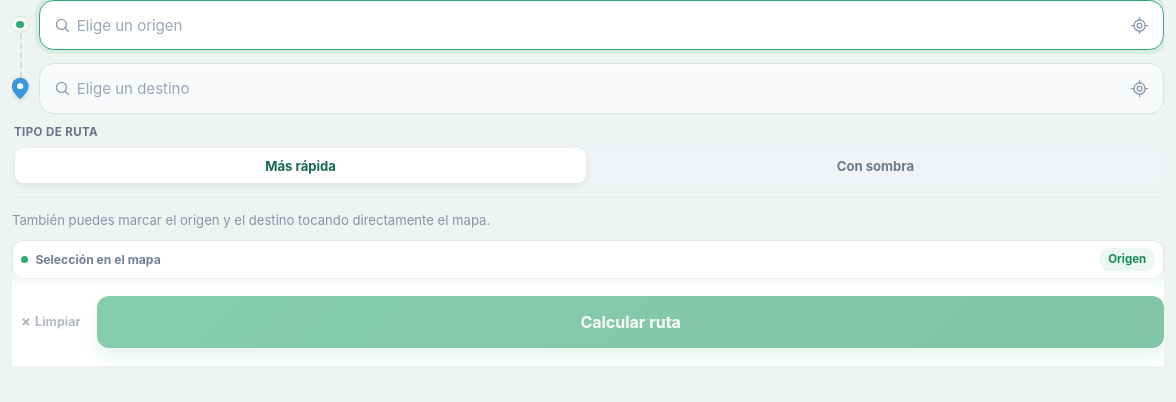
Test case: RouteSearchPanel › supports keyboard selection, Escape, and blur dismissal
Type "Pilar" into the dropdown labelled "destino".
click(596, 88); type("Pilar")  # box x1=77 y1=68 x2=1115 y2=109
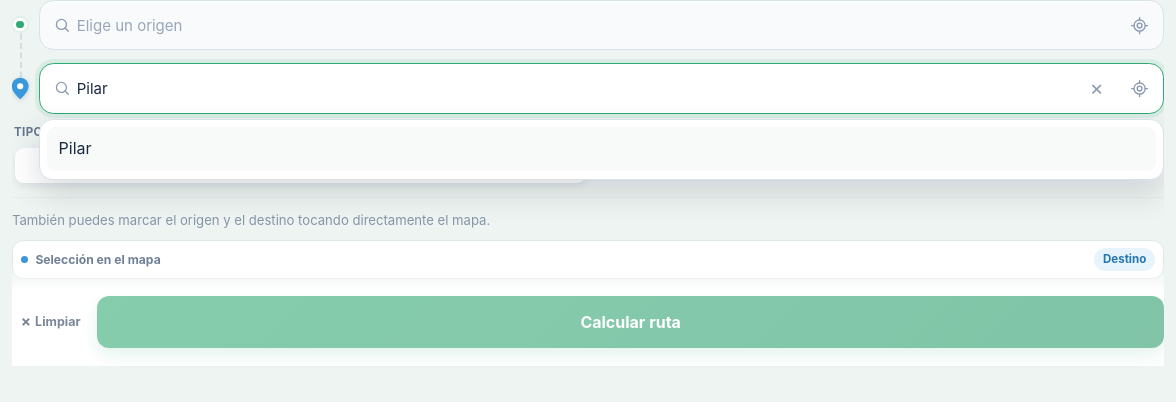
Press Arrowup
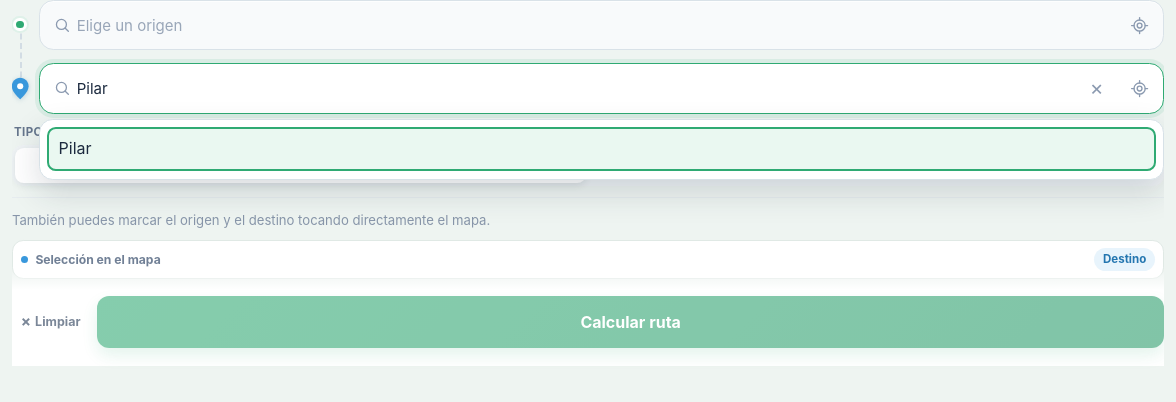
Press Escape
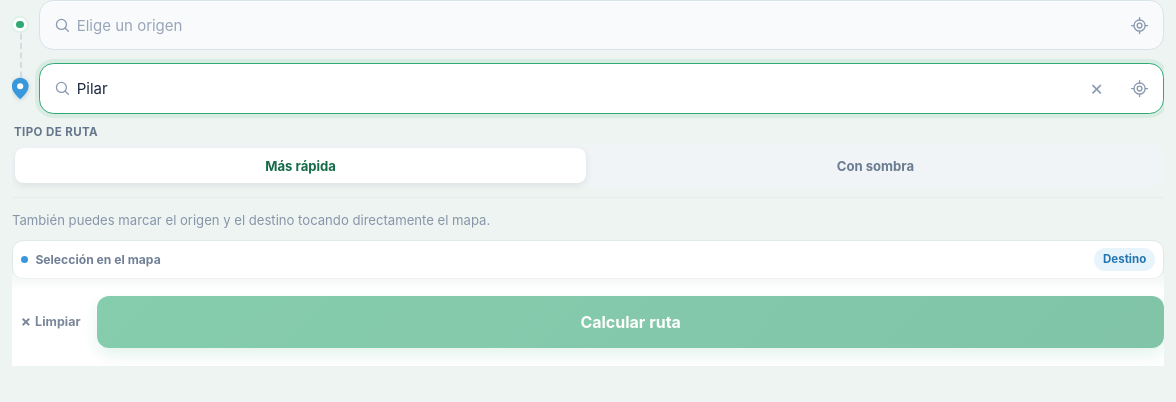
Press Arrowdown Enter
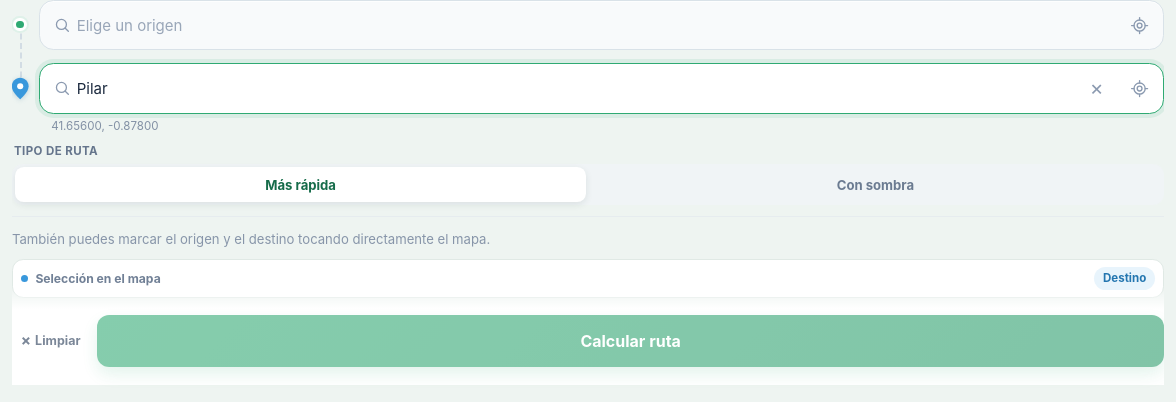
Expected: the text "41.65600, -0.87800" is shown, x1=51 y1=119 x2=158 y2=133
Type " new" into the dropdown named "destino".
click(574, 88); type(" new")  # box x1=77 y1=68 x2=1072 y2=109
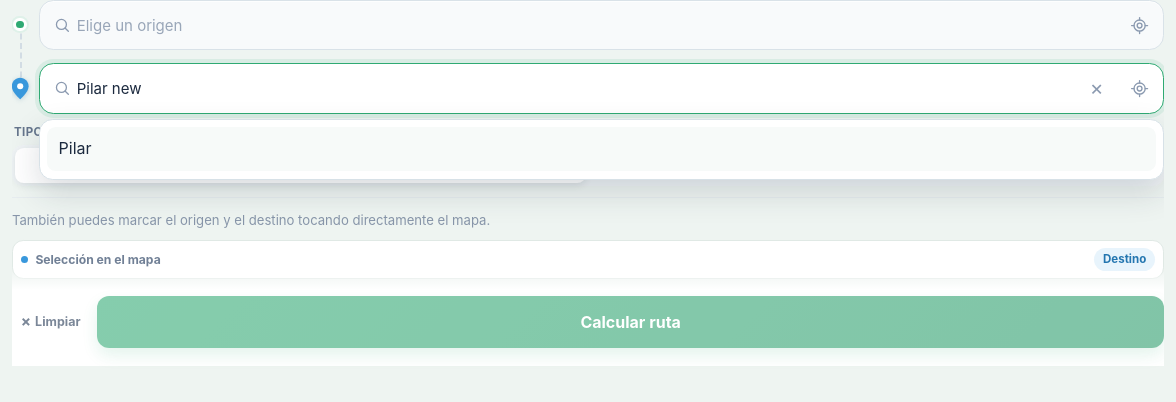
Press Tab
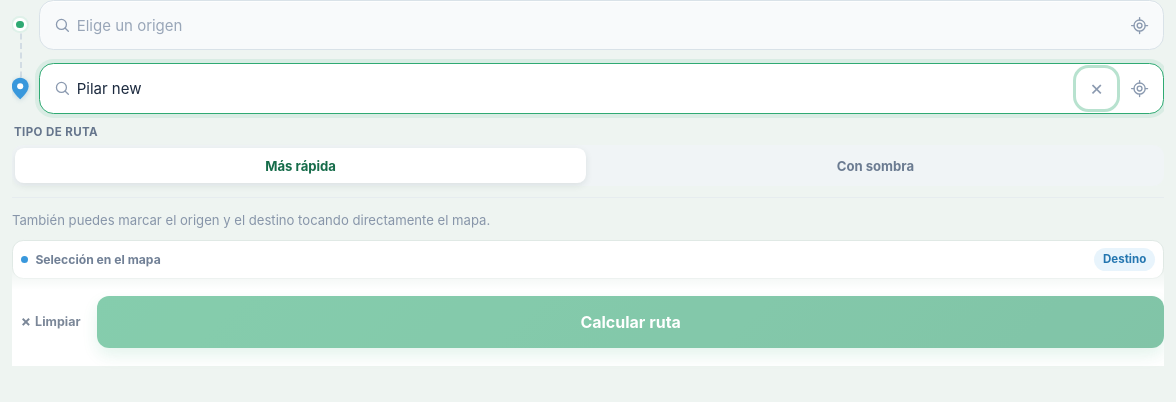
Expected: the list is gone
